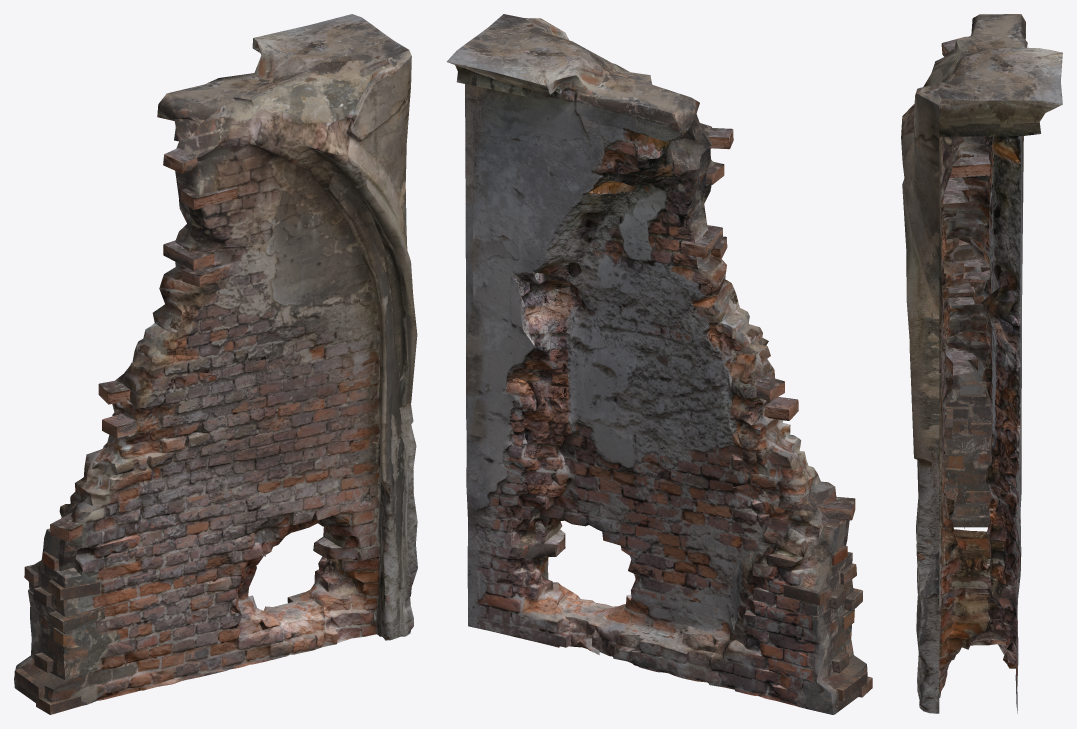
Rendered from SM_ChapelWall_02_07.fbx.
3 views of the same model, side by side, from view 1: azimuth 30°, elevation 25°; view 2: azimuth 150°, elevation 25°; view 3: azimuth 270°, elevation 25° (orthographic). The views are drawn at different scales.
Visible parts, largest first — view 1: sm_ChapelWall_02_07_LOD0; view 2: sm_ChapelWall_02_07_LOD0; view 3: sm_ChapelWall_02_07_LOD0.
Part boxes in pixels (left/top/right/bottom): sm_ChapelWall_02_07_LOD0: left=14, top=14, right=417, bottom=714; sm_ChapelWall_02_07_LOD0: left=446, top=14, right=872, bottom=714; sm_ChapelWall_02_07_LOD0: left=901, top=14, right=1062, bottom=713.
Bounding box in the file's own units: 94.78 × 265 × 398.
